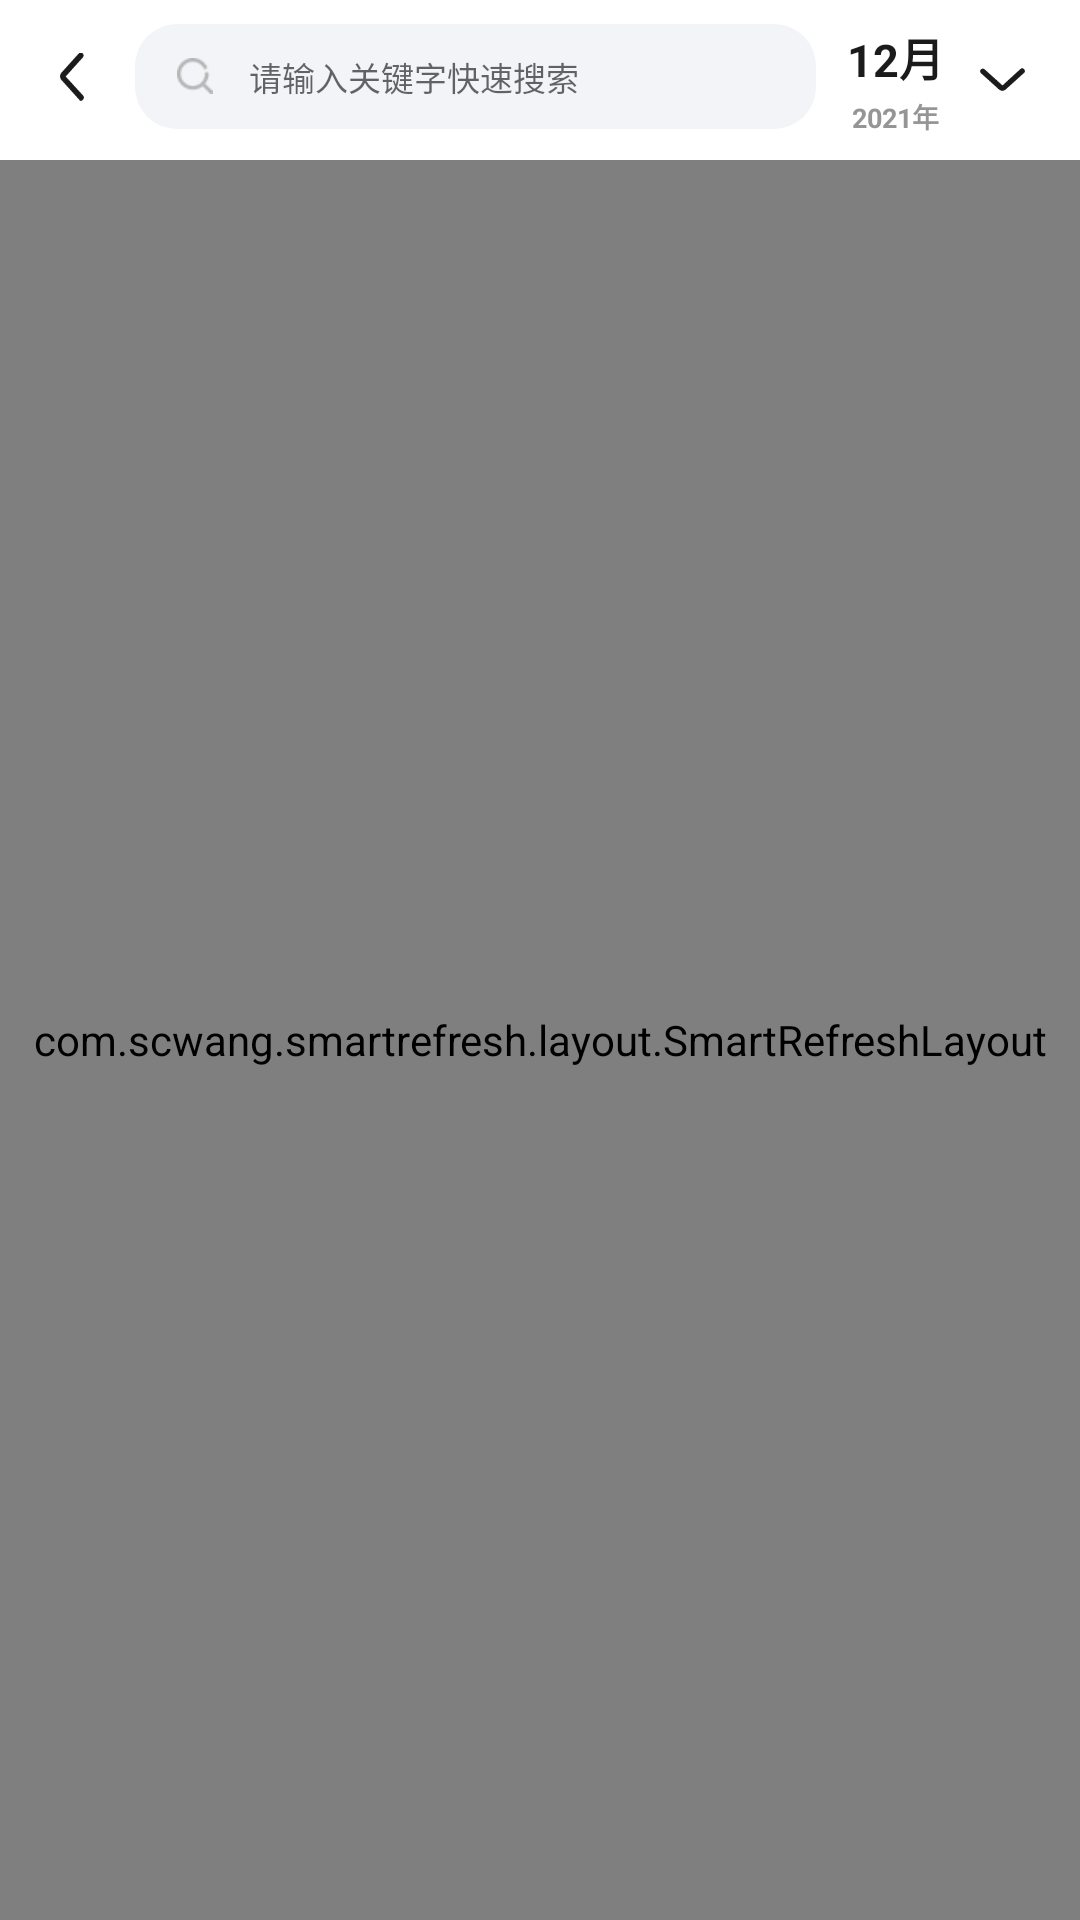

Screen size 1080*1920. Icon name, then its center in pixels as (x=x, y=y):
fangdajing: (x=195, y=76)
